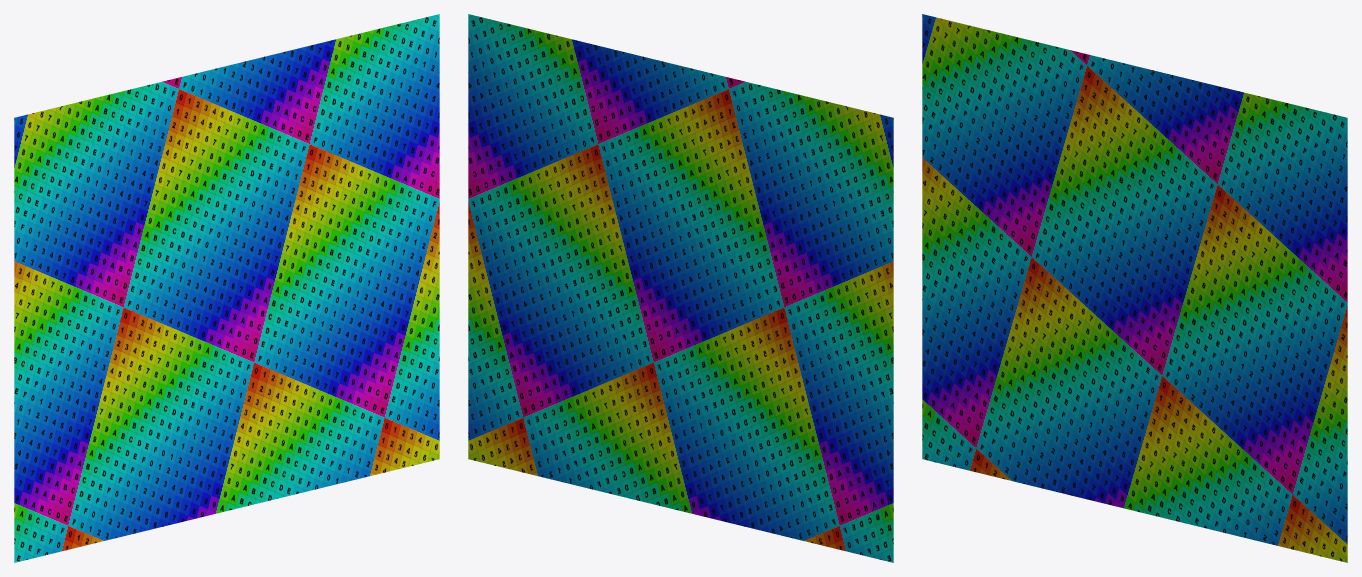
File: Max_KHR_Texture_Transform.glb
3 renders of one model, left to right at view 1: azimuth 30°, elevation 25°; view 2: azimuth 150°, elevation 25°; view 3: azimuth 330°, elevation 25°, orthographic.
Visible parts, largest first — view 1: Plane001; view 2: Plane001; view 3: Plane001.
Part boxes in pixels (x1,y1,x2,y2): Plane001: (14,14,439,562); Plane001: (468,14,893,562); Plane001: (922,14,1347,562).
Size of the model in its own units: 1 by 1 by 1.41e-07.
Materials: 1 (1 with a texture image).
